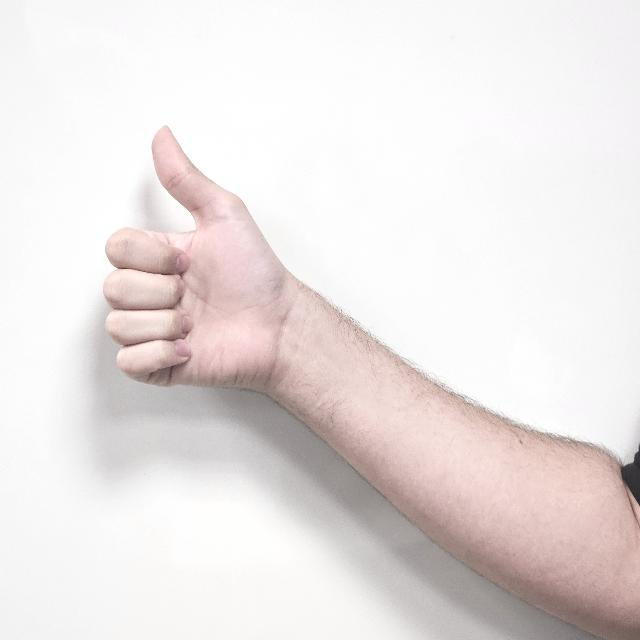Start: (103, 117, 293, 427)
